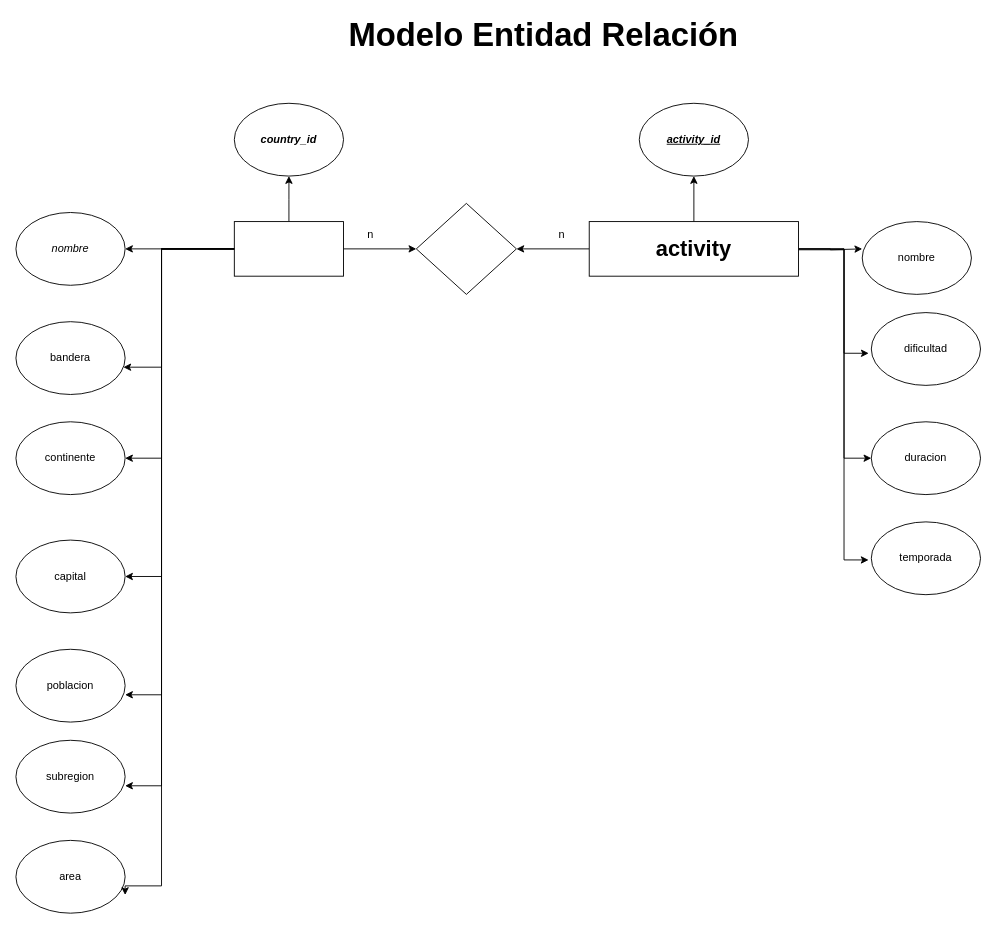
The diagram is 996 pixels wide and 929 high, and some of its shapes have lost their labels. Each missing label, with the box of its shape:
country: (233, 221, 344, 276)
pertenece: (415, 202, 516, 294)
